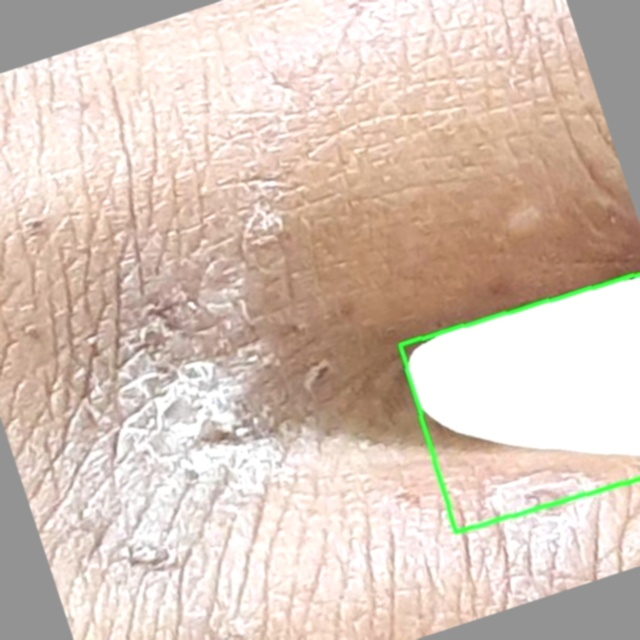Scabies: (399, 274, 639, 533)
